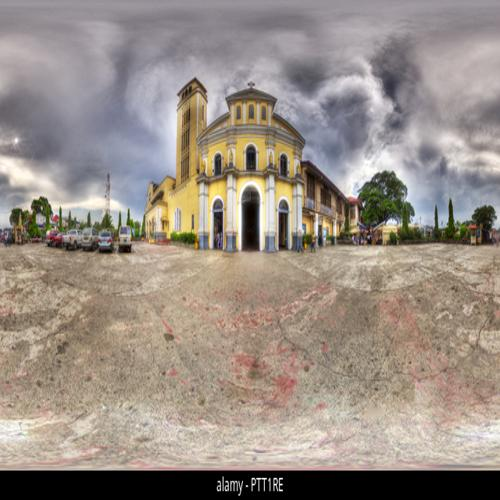Manaoag Church: (167, 70, 310, 262)
